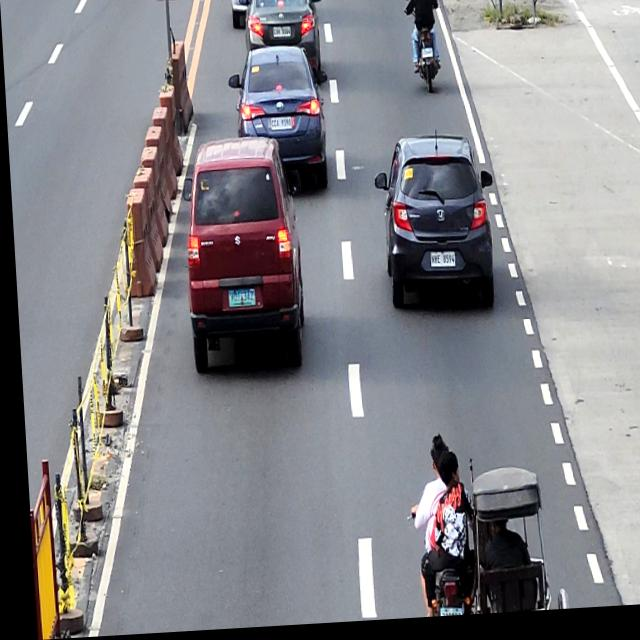Car: (176, 137, 303, 376), (370, 133, 496, 319), (225, 45, 330, 198), (242, 0, 326, 83)
License-Plate: (224, 290, 252, 310), (427, 256, 453, 274), (269, 119, 291, 133), (272, 28, 290, 41), (432, 611, 454, 621), (420, 53, 432, 63)
Motorcycle: (402, 0, 442, 99)
Tricycle: (400, 470, 562, 622)
